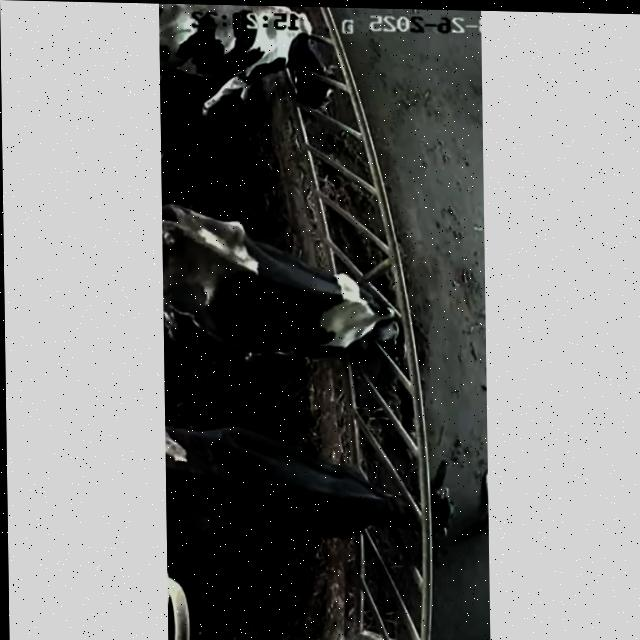eat: (210, 5, 388, 123), (300, 251, 447, 371), (322, 446, 477, 556)
